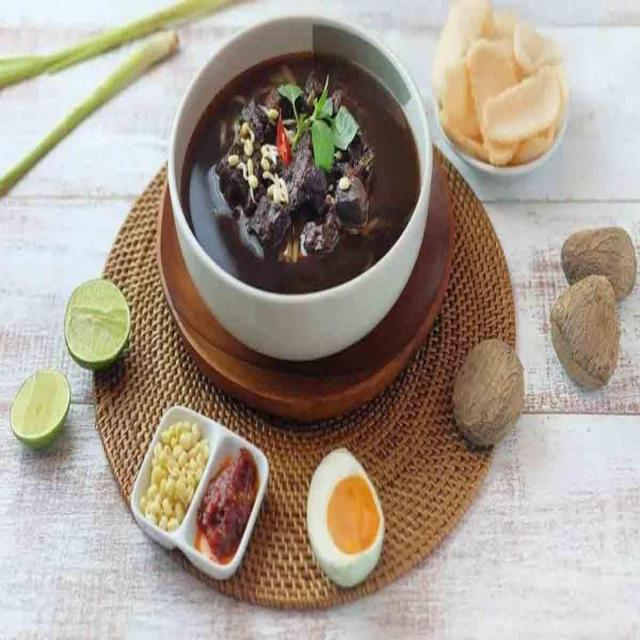Rawon: (170, 28, 420, 304)
